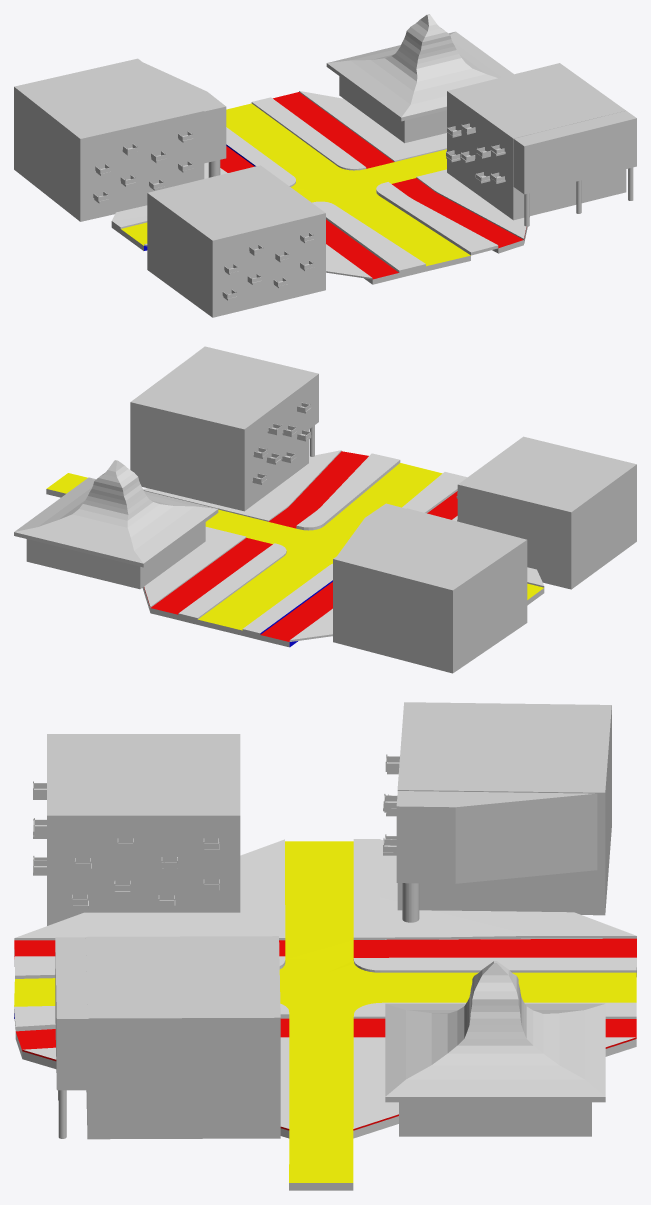
Rendered from Pws Omgeving 14.fbx.
3 renders of one model, top to bottom at view 1: azimuth 30°, elevation 25°; view 2: azimuth 150°, elevation 25°; view 3: azimuth 270°, elevation 25°, orthographic. The views are drawn at different scales.
Visible parts, largest first — view 1: Cube.020; view 2: Cube.020; view 3: Cube.020.
Part boxes in pixels (x1=…): Cube.020: x1=14, y1=14, x2=636, y2=317; Cube.020: x1=14, y1=346, x2=636, y2=673; Cube.020: x1=14, y1=702, x2=636, y2=1190.
Bounding box in the file's own units: 10787 × 2122 × 7931.
